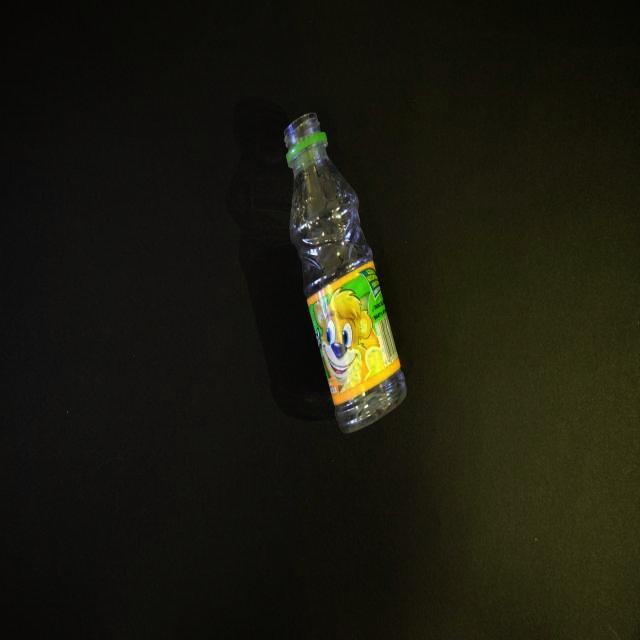bottle: (283, 113, 407, 434)
